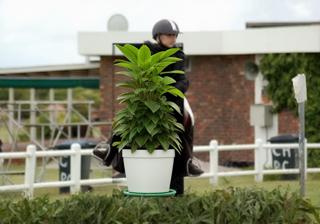person: (91, 19, 206, 178)
pottedplant: (112, 43, 183, 196)
